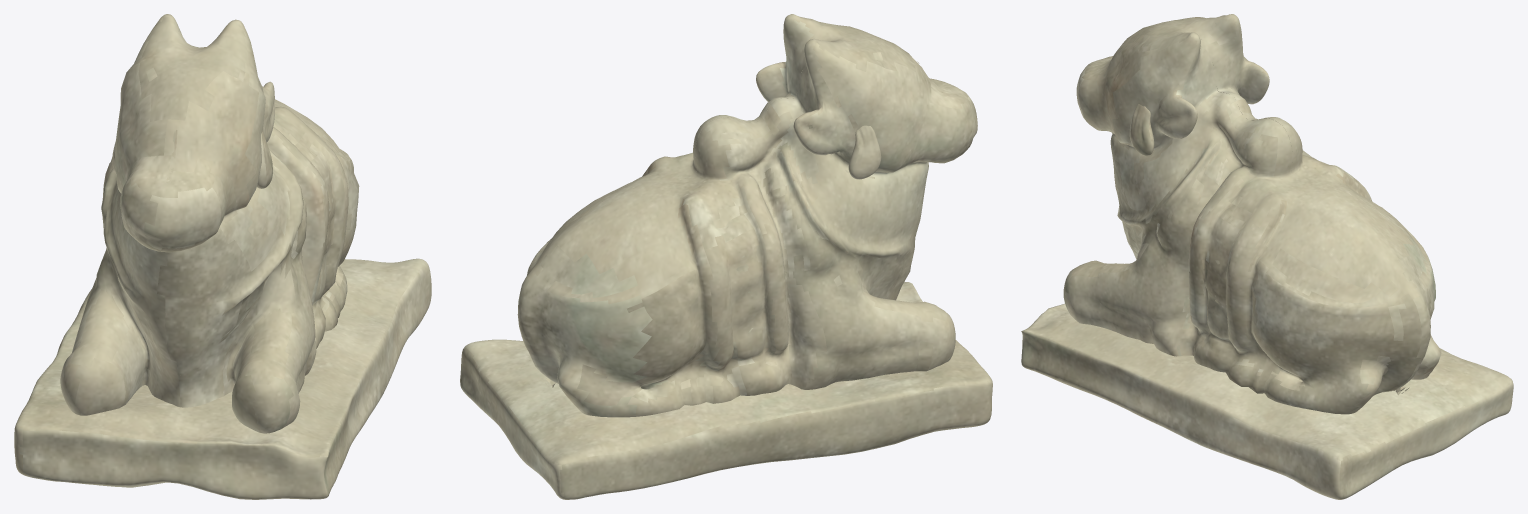
The model's file is Nandi.glb.
The picture shows the model from 3 angles, left to right: view 1: azimuth 30°, elevation 25°; view 2: azimuth 150°, elevation 25°; view 3: azimuth 270°, elevation 25°; orthographic projection. The views are drawn at different scales.
Parts seen in each view (by area): view 1: 40kFacesNandi; view 2: 40kFacesNandi; view 3: 40kFacesNandi.
Boxes of the visible parts, box(x1,y1,x2,y2) form: 40kFacesNandi: box(14, 14, 431, 499); 40kFacesNandi: box(460, 14, 992, 499); 40kFacesNandi: box(1021, 14, 1513, 499).
Bounding box in the file's own units: 5.75 × 4.68 × 5.81.
